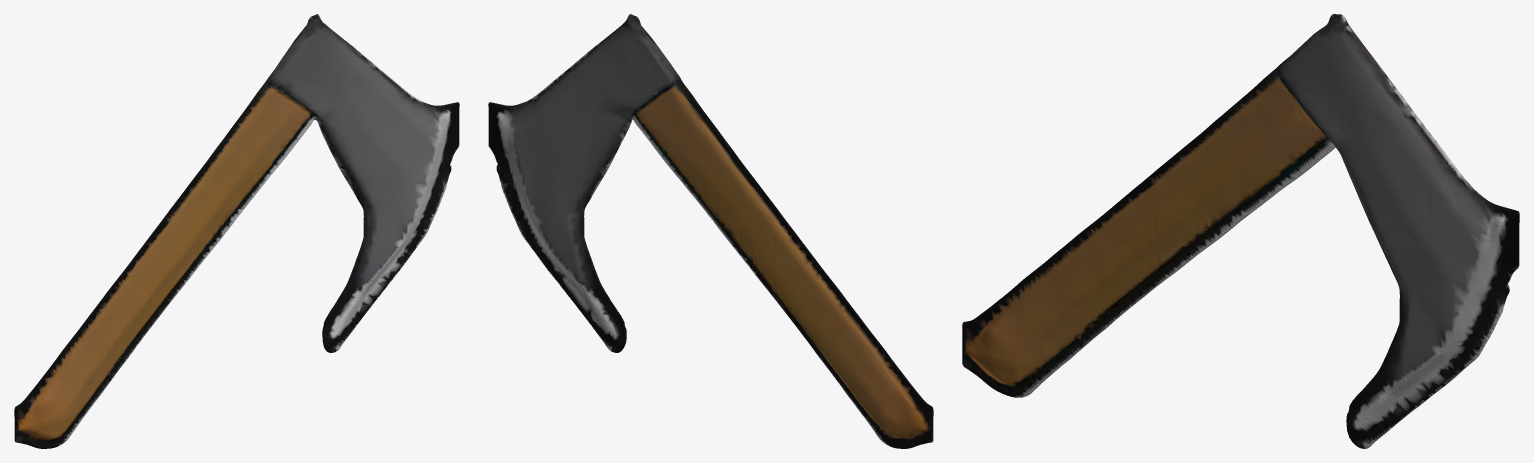
File: brdaxe_1.glb
The picture shows the model from 3 angles, left to right: view 1: azimuth 30°, elevation 25°; view 2: azimuth 150°, elevation 25°; view 3: azimuth 330°, elevation 25°; orthographic projection. The views are drawn at different scales.
Visible parts, largest first — view 1: geometry_0; view 2: geometry_0; view 3: geometry_0.
Boxes of the visible parts, x1,y1,x2,y2 form: geometry_0: (14,14,459,448); geometry_0: (488,14,933,448); geometry_0: (962,14,1519,448).
Bounding box in the file's own units: 0.9848 × 0.7812 × 0.0428.
